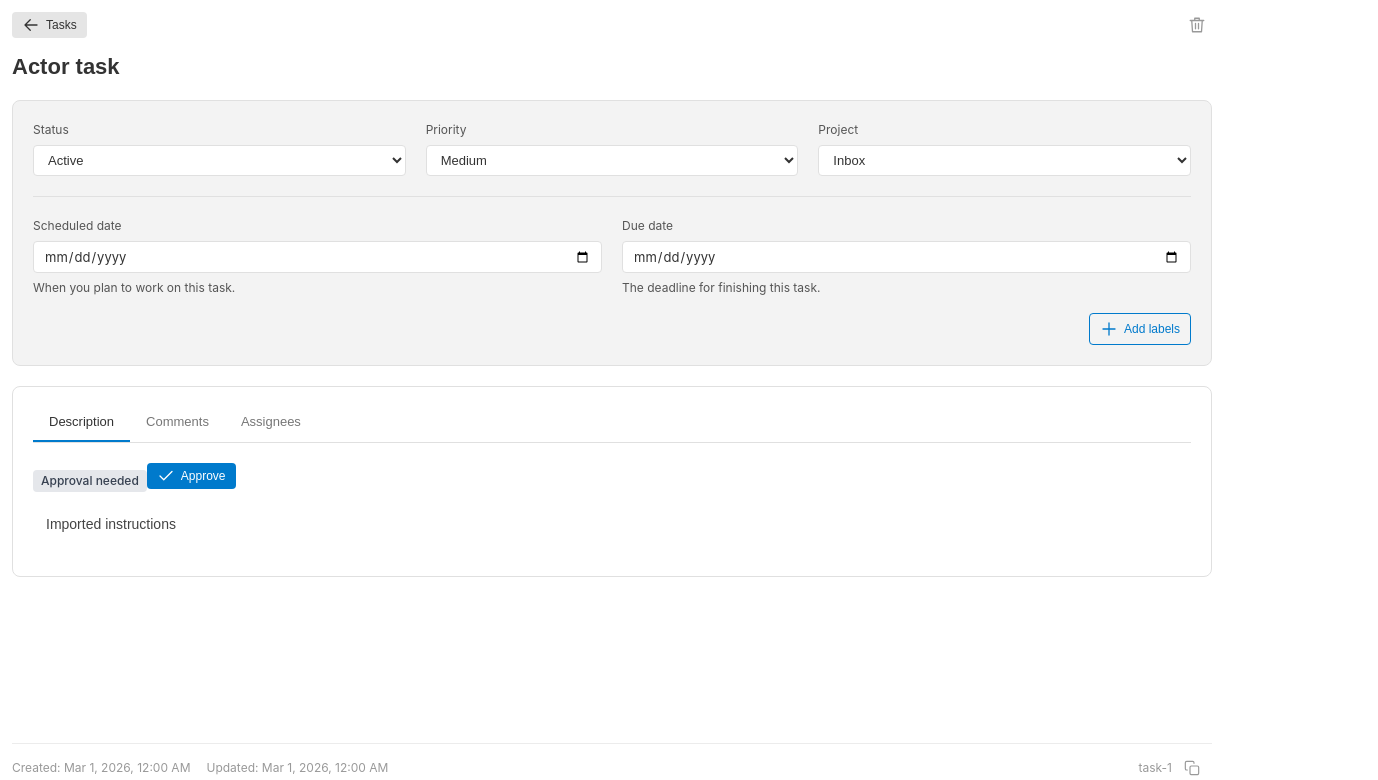
actor-aware renderer views › cancels label changes without updating the task
Click the button "Add labels".
click(1140, 329)  # box 1089,313 -> 1191,345
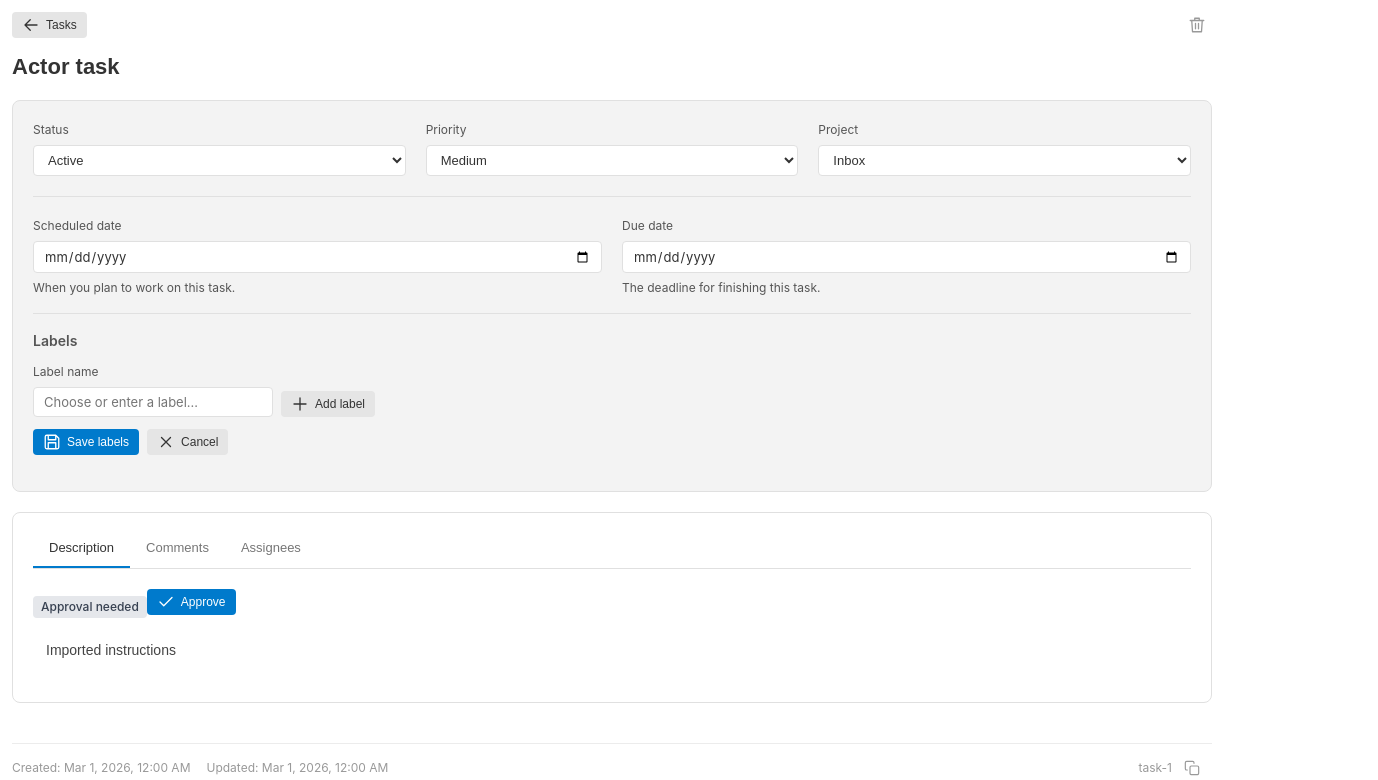
Type "preview" into the field labelled "Label name".
click(153, 402); type("preview")  # box 33,387 -> 273,417
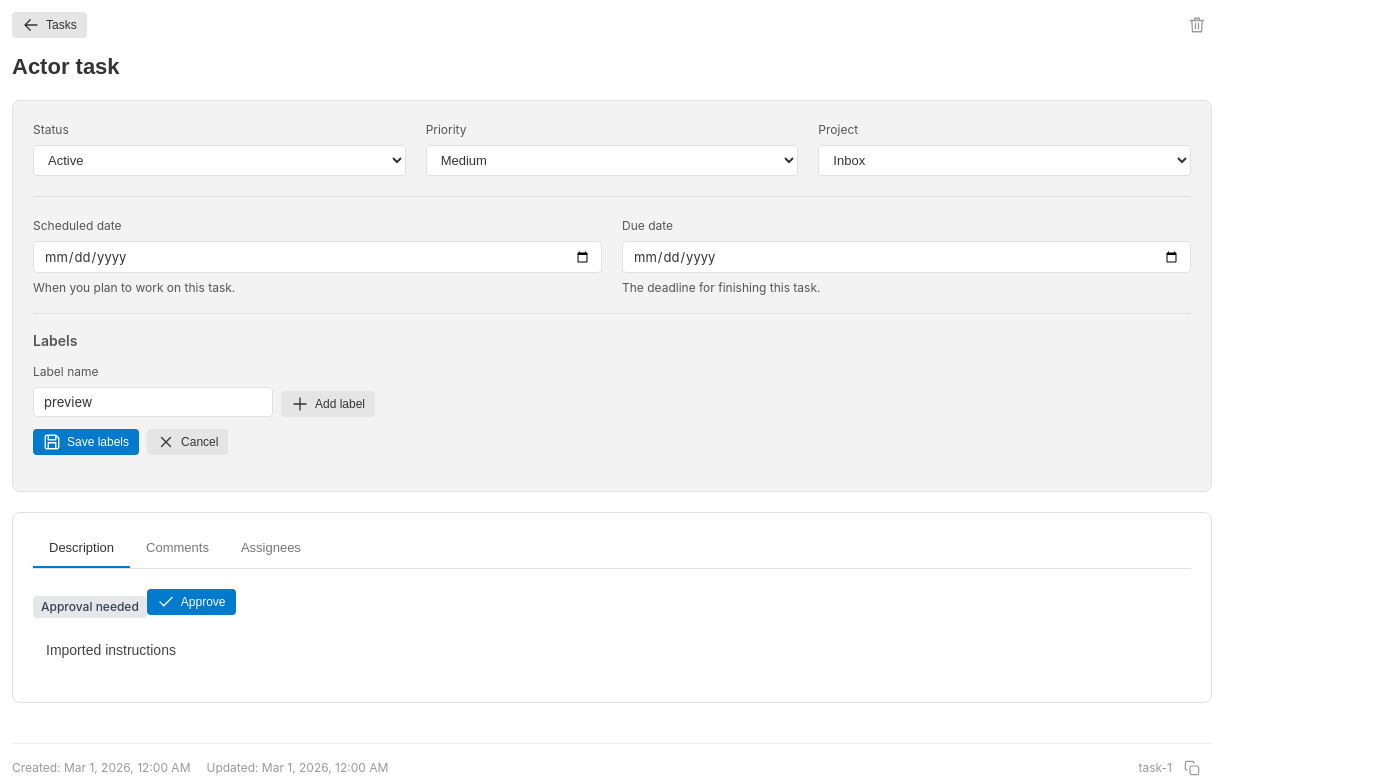
Click the button "Cancel".
click(188, 442)  # box 147,429 -> 228,455
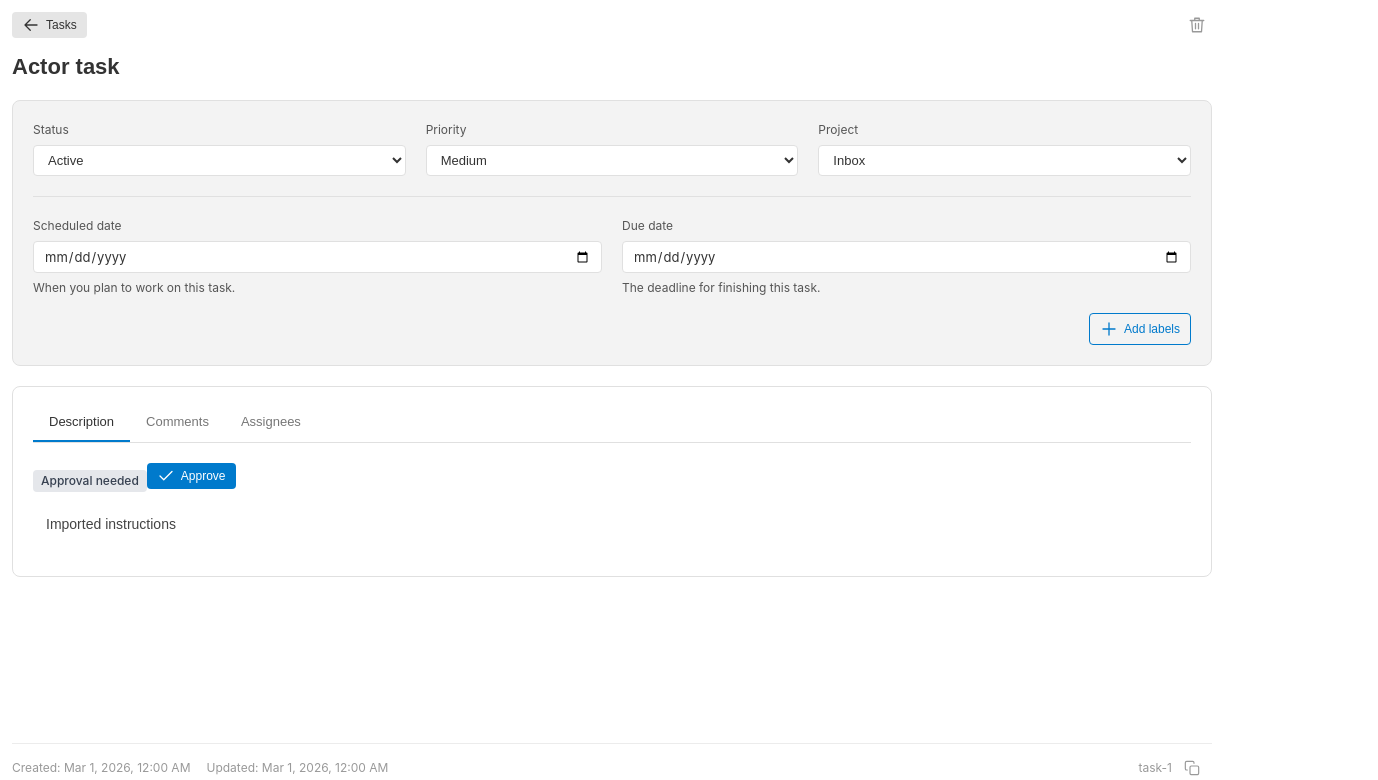
Expected: the button "Add labels" is shown, 1089,313 -> 1191,345
